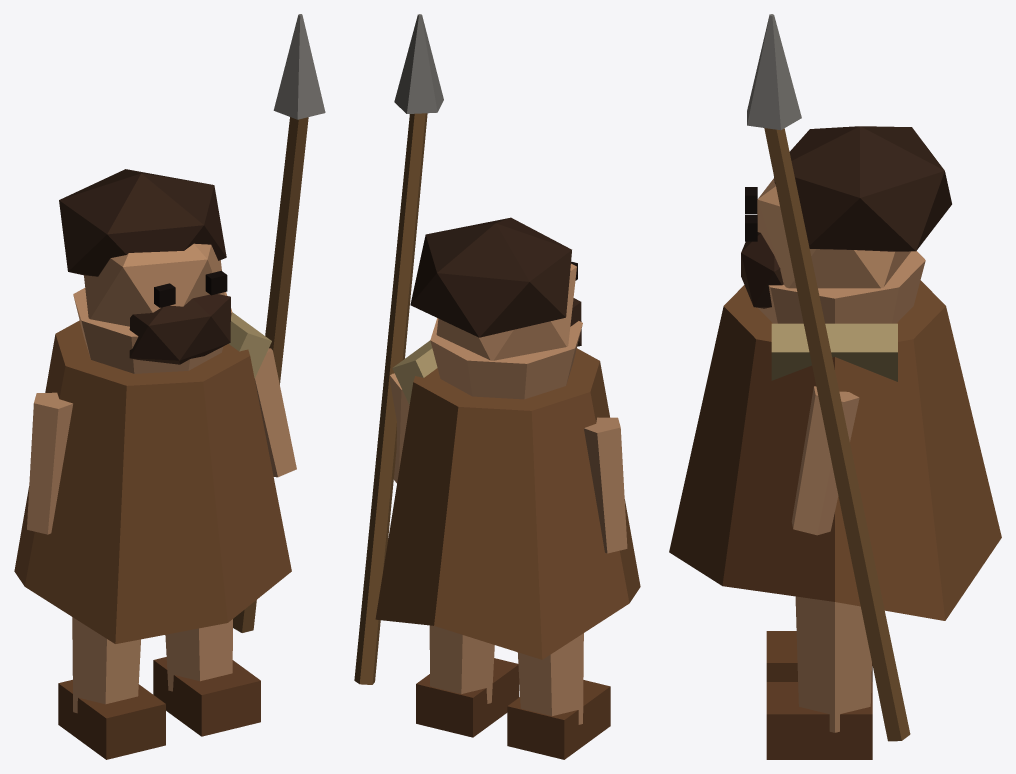
File: caveman_stand.glb
3 renders of one model, left to right at view 1: azimuth 30°, elevation 25°; view 2: azimuth 150°, elevation 25°; view 3: azimuth 270°, elevation 25°, orthographic. The views are drawn at different scales.
Parts seen in each view (by area): view 1: caveman_stand; view 2: caveman_stand; view 3: caveman_stand.
Part boxes in pixels (x1=…): caveman_stand: x1=14, y1=14, x2=325, y2=759; caveman_stand: x1=354, y1=14, x2=640, y2=759; caveman_stand: x1=669, y1=14, x2=1001, y2=759.
Size of the model in its own units: 1.36 by 3.35 by 1.32.
